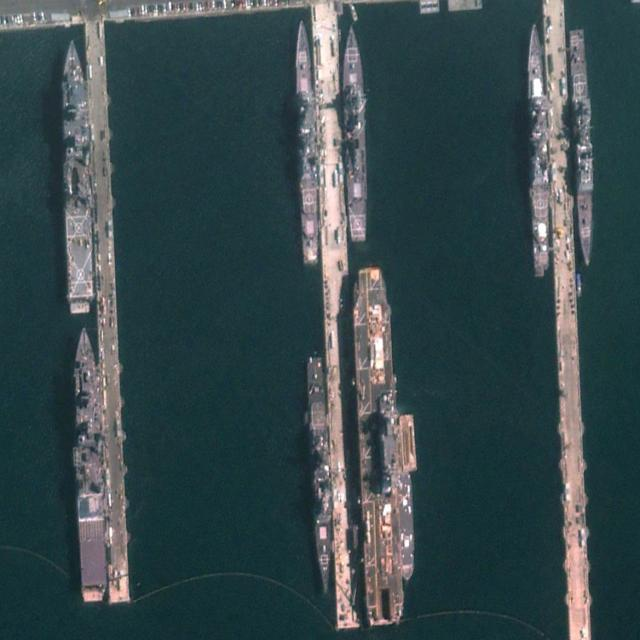Cruiser: (304, 354, 339, 597), (568, 28, 598, 268), (294, 18, 321, 265), (526, 22, 550, 271)
Destroyer: (340, 22, 370, 242)
Landing: (350, 263, 405, 626), (70, 324, 107, 602), (61, 37, 95, 314)
Other Ship: (397, 471, 418, 582)
